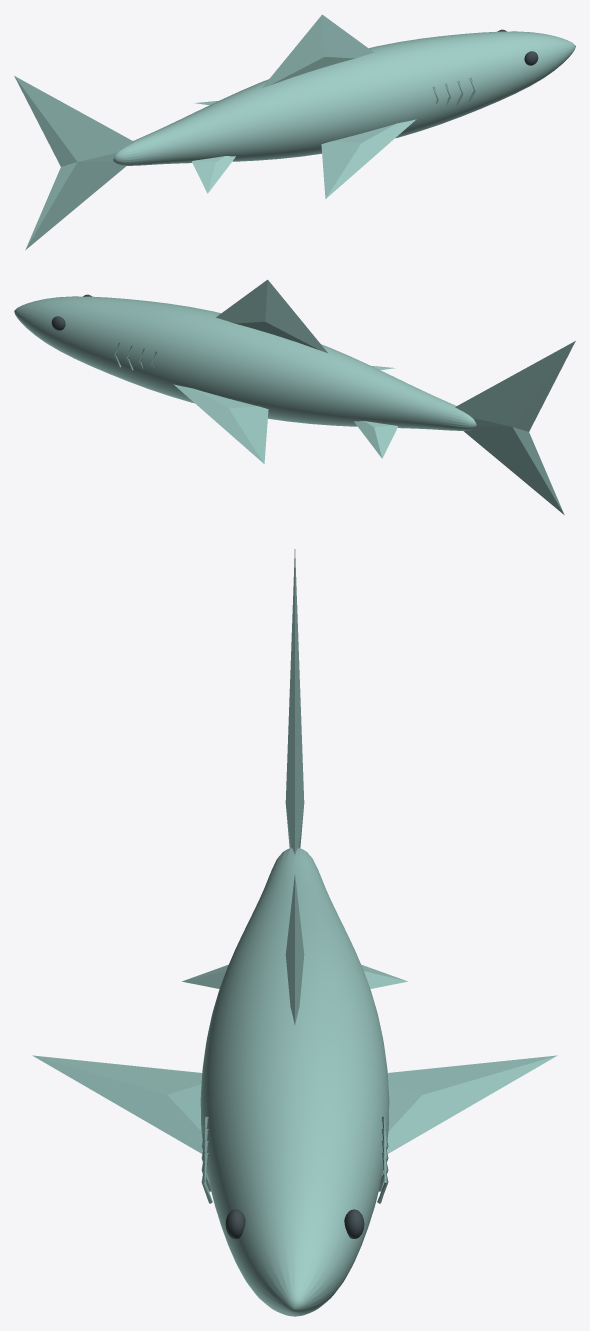
The picture shows the model from 3 angles, top to bottom: view 1: azimuth 30°, elevation 25°; view 2: azimuth 150°, elevation 25°; view 3: azimuth 270°, elevation 25°; orthographic projection. The views are drawn at different scales.
Parts seen in each view (by area): view 1: Body, Tail, Dorsal, Pectoral, Pelvic; view 2: Body, Tail, Dorsal, Pectoral.001, Pelvic.001; view 3: Body, Pectoral.001, Pectoral, Tail, Dorsal.
Boxes of the visible parts, x1=… form: Body: x1=113, y1=31, x2=575, y2=165; Tail: x1=14, y1=76, x2=134, y2=249; Dorsal: x1=262, y1=14, x2=373, y2=87; Pectoral: x1=321, y1=119, x2=416, y2=198; Pelvic: x1=192, y1=156, x2=235, y2=193; Body: x1=14, y1=296, x2=476, y2=430; Tail: x1=455, y1=341, x2=575, y2=514; Dorsal: x1=216, y1=279, x2=327, y2=352; Pectoral.001: x1=173, y1=384, x2=268, y2=463; Pelvic.001: x1=354, y1=421, x2=397, y2=458; Body: x1=200, y1=848, x2=389, y2=1316; Pectoral.001: x1=387, y1=1055, x2=557, y2=1153; Pectoral: x1=32, y1=1055, x2=202, y2=1153; Tail: x1=285, y1=549, x2=304, y2=854; Dorsal: x1=285, y1=875, x2=304, y2=1024.
Bounding box in the file's own units: 252 × 76 × 102.
